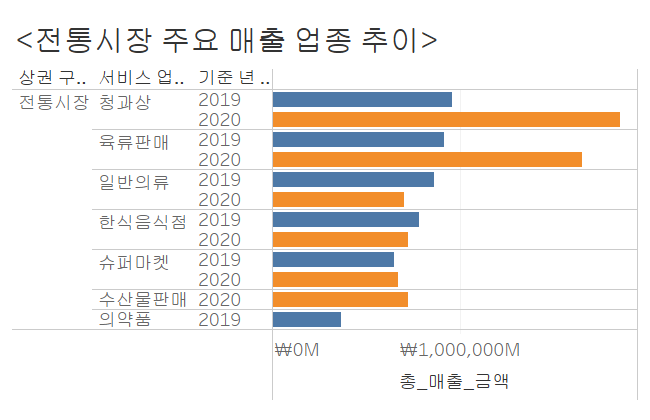

Layout of this report page (visuals, bound fields, positions):
{"tool":"tableau","page":{"name":"대시보드 3","canvas":[650,340],"ordinal":2},"visuals":[{"type":"worksheet","title":"2019-2020","mark":"Automatic","rows":["상권_구분_코드","상권_구분_코드_명","기준_년_코드"],"cols":["Calculation_1875467832722706446"],"box":[8,8,634,324]}]}

Visuals, with their boxes on the page's 650x340 design canvas (x1, y1, x2, y2). These are canvas units, not pixel positions in the 650x420 screenshot, which may show the page scaled, cropped or inside an application window:
"2019-2020" worksheet: 8 8 642 332
